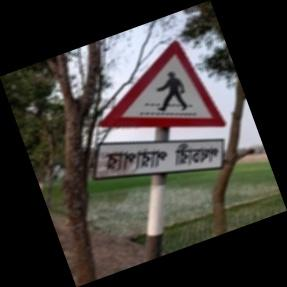Pedestrian-crossing: (95, 39, 229, 183)
